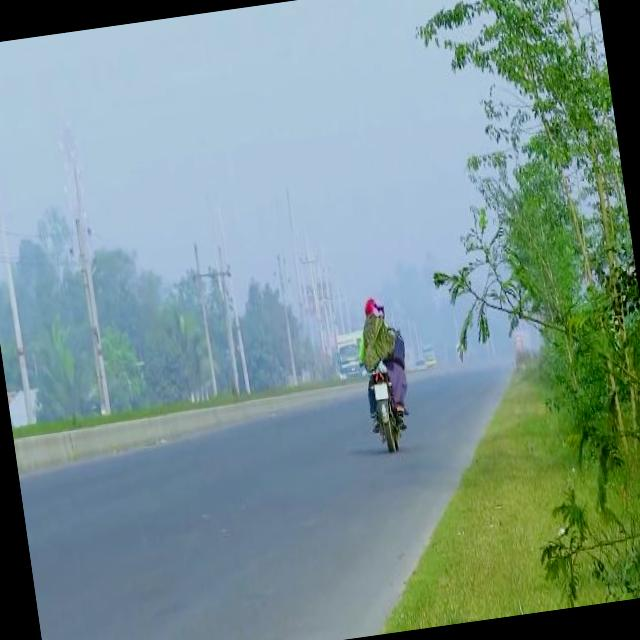motorcycle: (358, 294, 422, 451)
truck: (332, 324, 366, 381)
